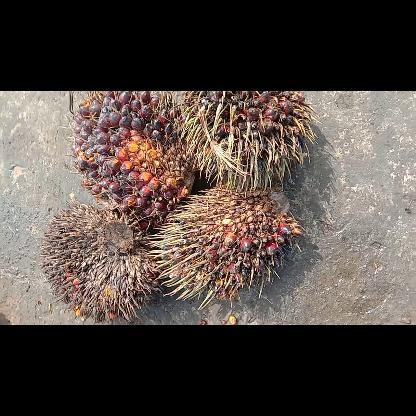Kurang masak: (182, 91, 312, 185)
TBS abnormal: (147, 180, 305, 308), (42, 197, 160, 322)
Terlalu masak: (68, 92, 192, 226)
